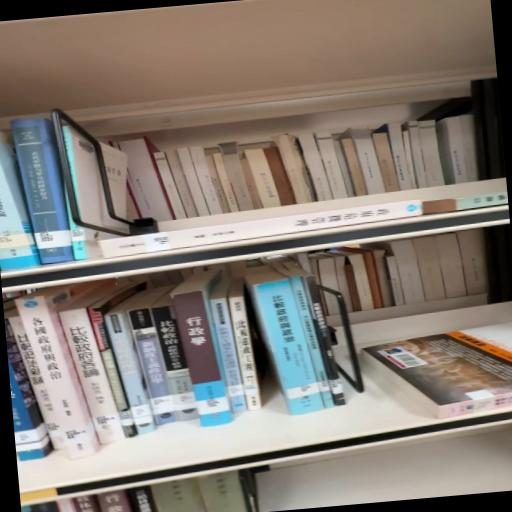flat: (99, 200, 422, 257)
